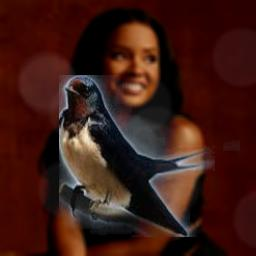Swallow: (59, 75, 256, 237)
